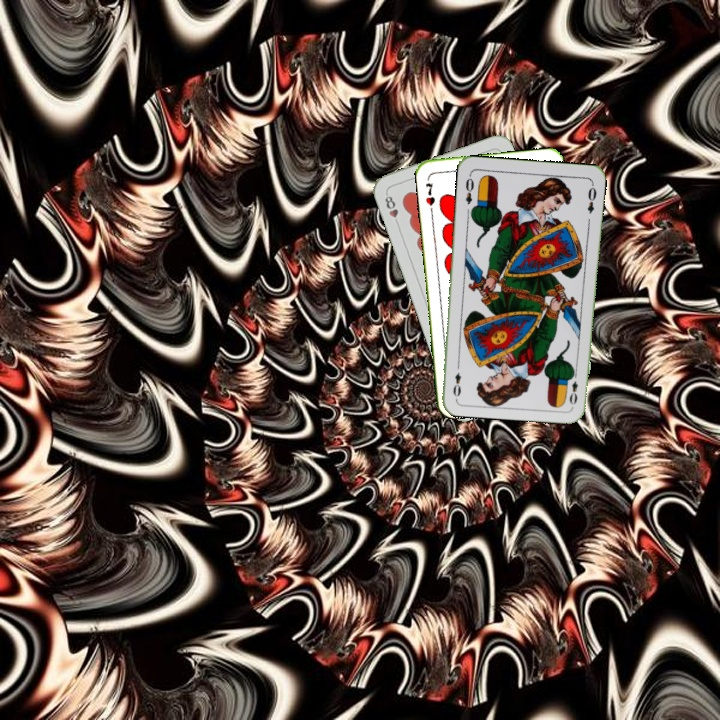EO: (565, 367, 581, 407), (461, 171, 476, 207)
H7: (422, 179, 438, 208)
H8: (381, 189, 402, 229)
